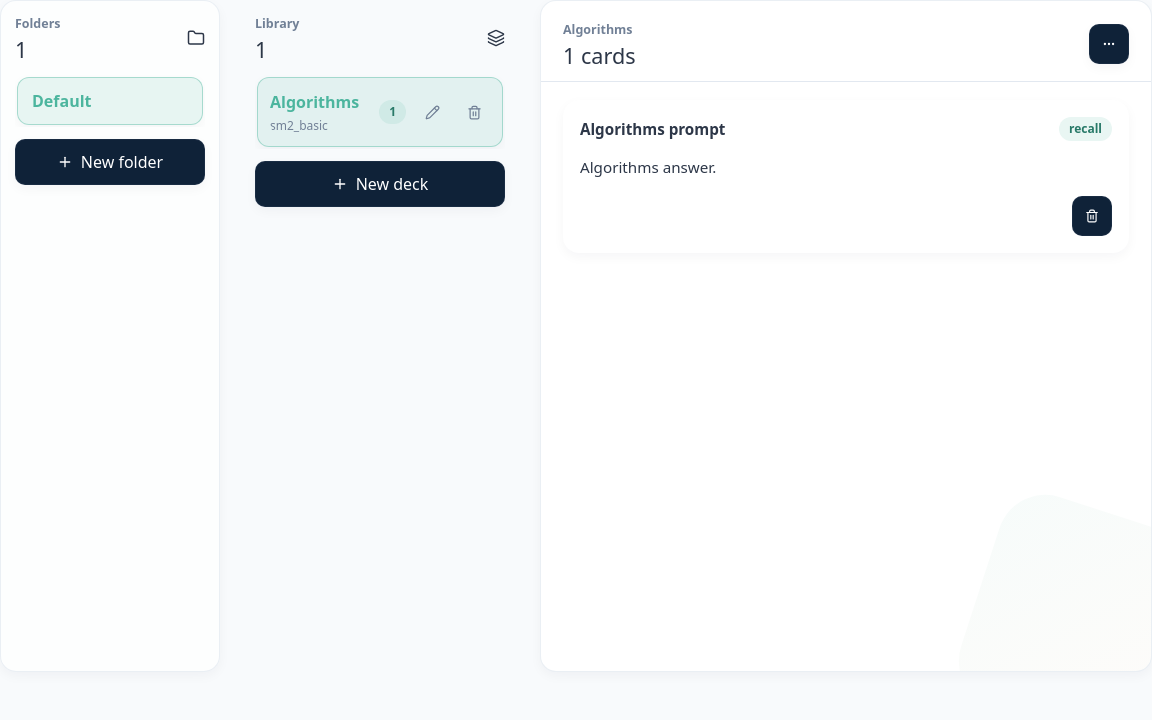
LibraryPage › clears the selected deck and card panel after deleting the last deck
This screenshot has width=1152, height=720.
Expected: the button with aria-label "edit algorithms prompt" is shown, left=564, top=102, right=1128, bottom=196
Step 1. Click the button named "delete algorithms" → point(474, 112), box left=458, top=96, right=490, bottom=128
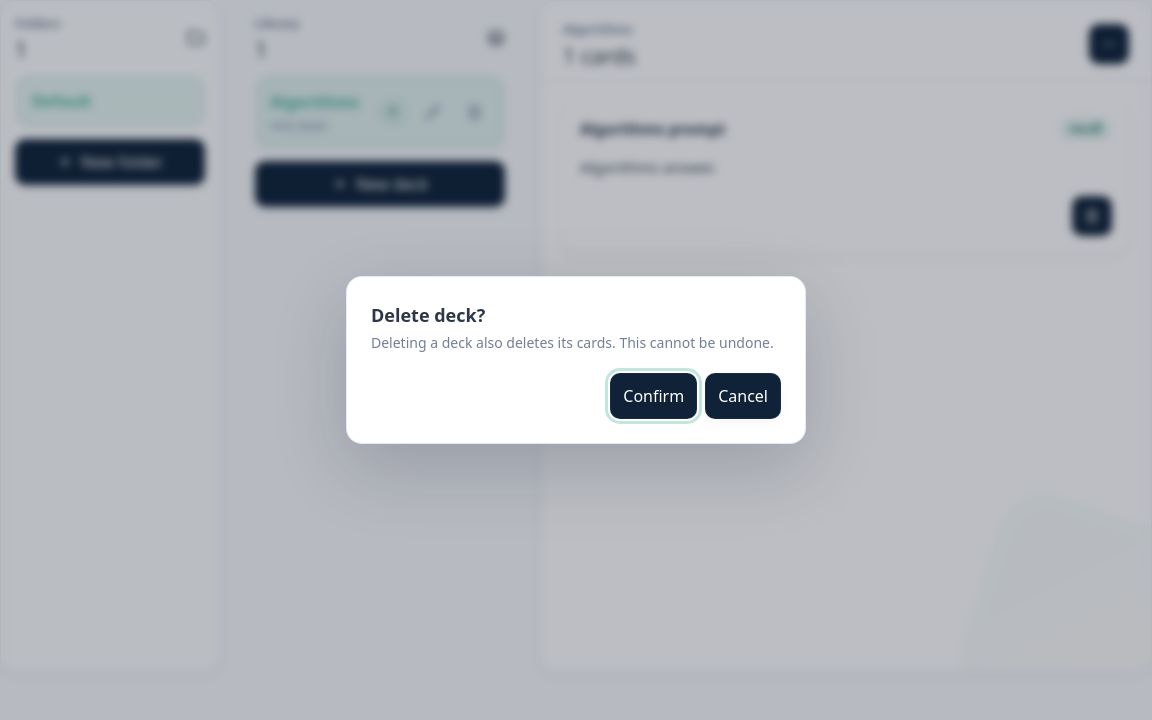
Step 2. Click the button "Confirm" → point(654, 396), box left=610, top=373, right=697, bottom=419
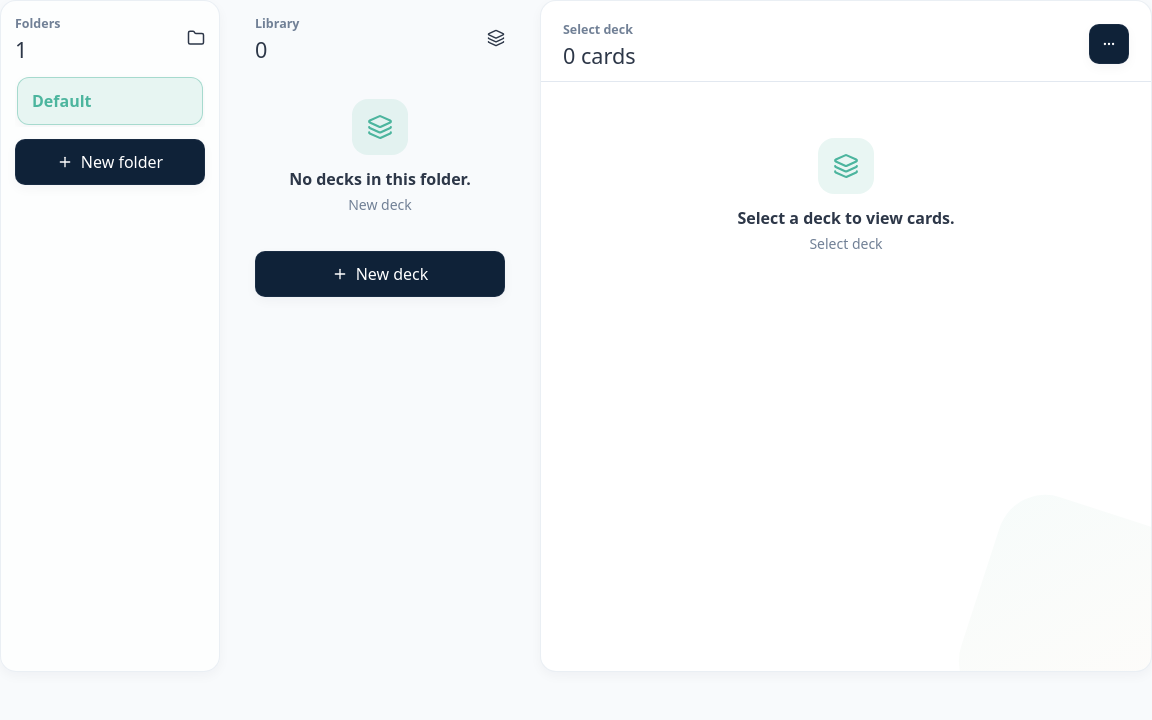
Expected: the heading "Select a deck to view cards." is shown, left=737, top=206, right=954, bottom=230
